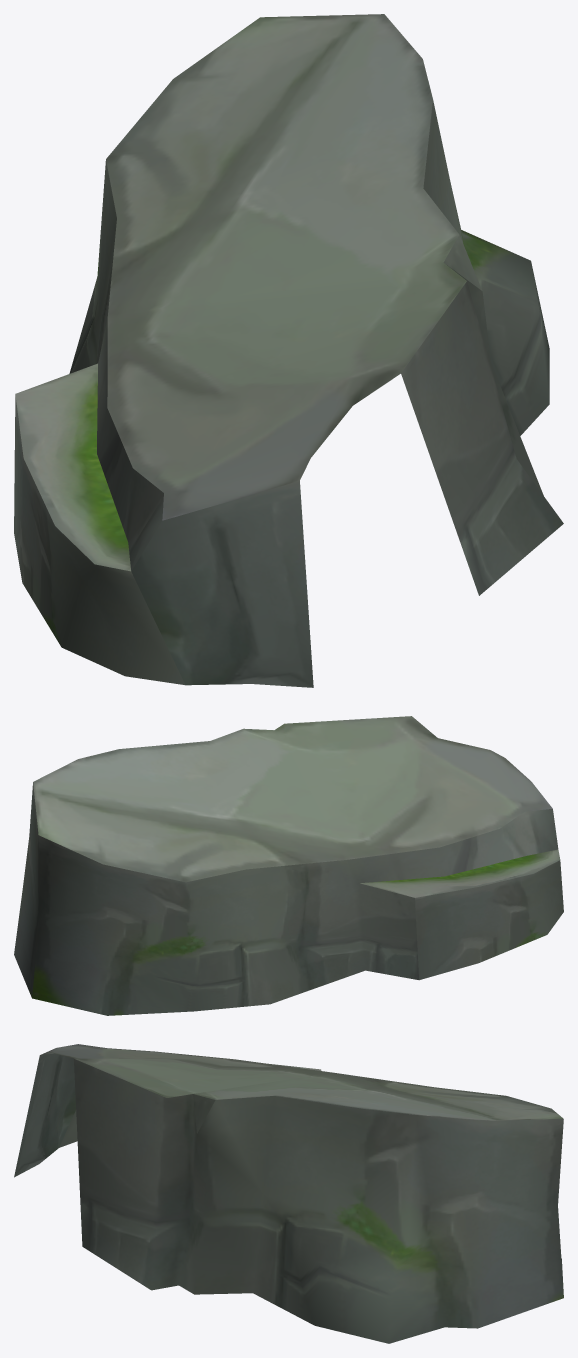
File: scene_malujiakuangdao_shan01_3.FBX
The picture shows the model from 3 angles, top to bottom: view 1: azimuth 30°, elevation 25°; view 2: azimuth 150°, elevation 25°; view 3: azimuth 270°, elevation 25°; orthographic projection. The views are drawn at different scales.
Parts seen in each view (by area): view 1: scene_malujiakuangdao_shan01_3; view 2: scene_malujiakuangdao_shan01_3; view 3: scene_malujiakuangdao_shan01_3.
Part boxes in pixels (x1,y1,x2,y2): scene_malujiakuangdao_shan01_3: (14,14,563,687); scene_malujiakuangdao_shan01_3: (14,716,563,1015); scene_malujiakuangdao_shan01_3: (14,1044,563,1343).
Size of the model in its own units: 601 by 257 by 655.
